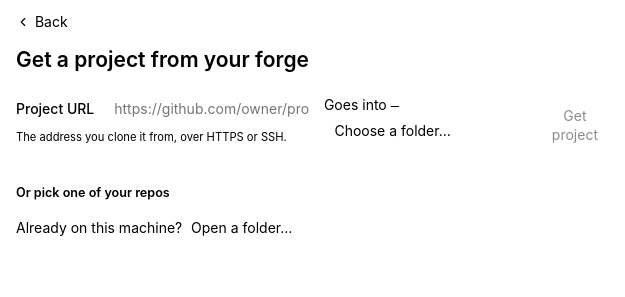
Test: get a project by URL (#1815) › shows the folder a pasted URL goes into: Projects in the home folder
In the field labelled "Project URL": (212, 109) [106,95,317,123], type "https://github.com/acme/widget.git"
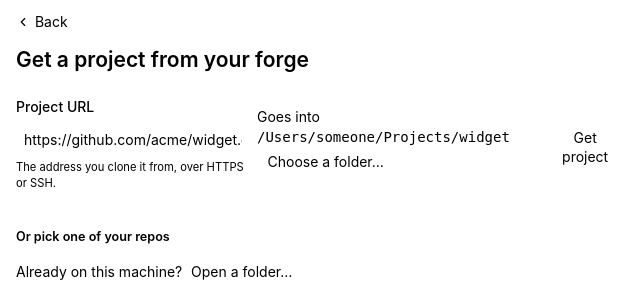
Now the text "/Users/someone/Projects/widget" is shown, box [257,129,510,145]
